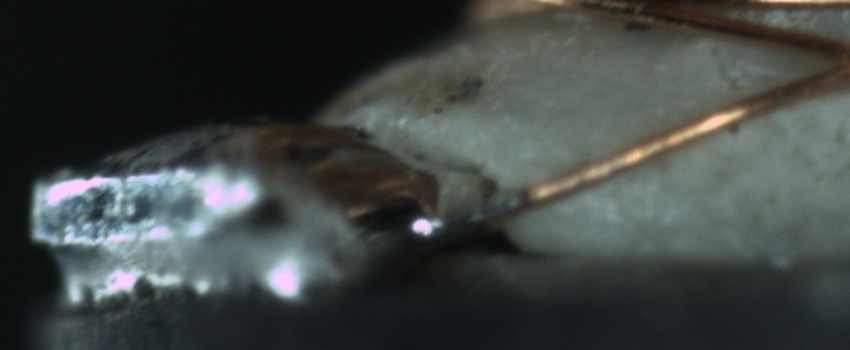TS: (415, 192, 526, 241)
